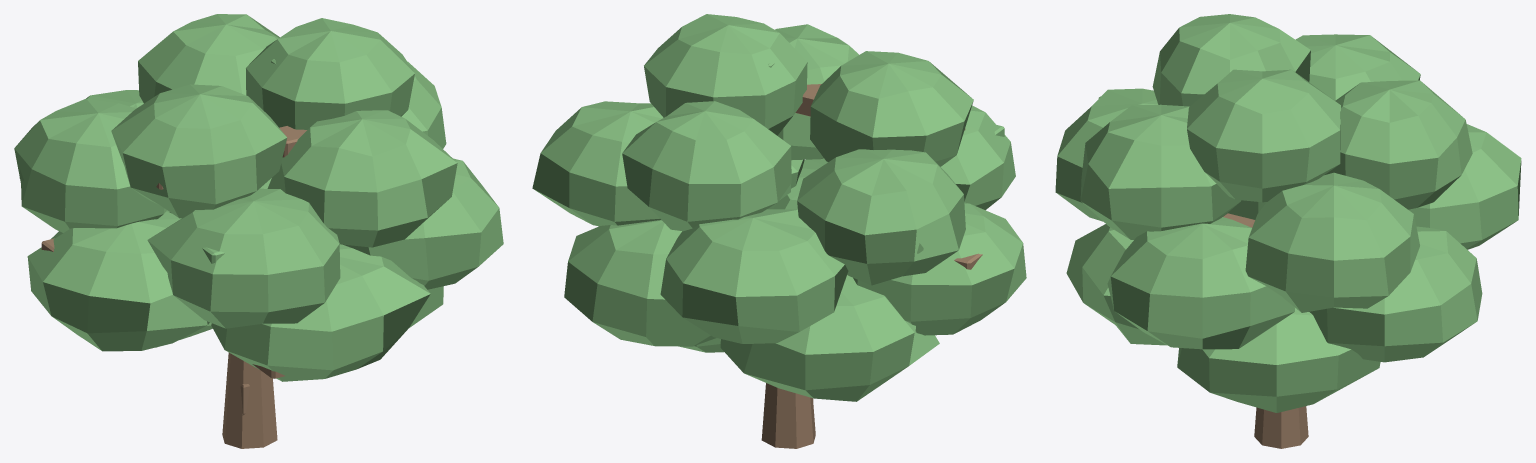
File: b08_weeping_willow.glb
3 renders of one model, left to right at view 1: azimuth 30°, elevation 25°; view 2: azimuth 150°, elevation 25°; view 3: azimuth 270°, elevation 25°, orthographic.
Visible parts, largest first — view 1: b08_weeping_willow; view 2: b08_weeping_willow; view 3: b08_weeping_willow.
Boxes of the visible parts, x1=… form: b08_weeping_willow: x1=14, y1=14, x2=503, y2=448; b08_weeping_willow: x1=532, y1=14, x2=1026, y2=448; b08_weeping_willow: x1=1055, y1=14, x2=1521, y2=448.
Size of the model in its own units: 5.83 by 5.13 by 5.52.
